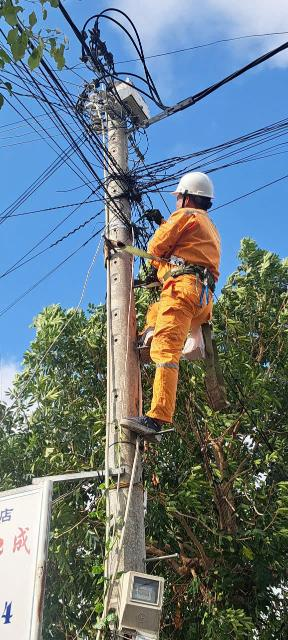gloves: (140, 205, 168, 225)
harness: (154, 253, 226, 297)
helmet: (162, 169, 231, 204)
shoes: (115, 406, 172, 452), (131, 325, 164, 365)
